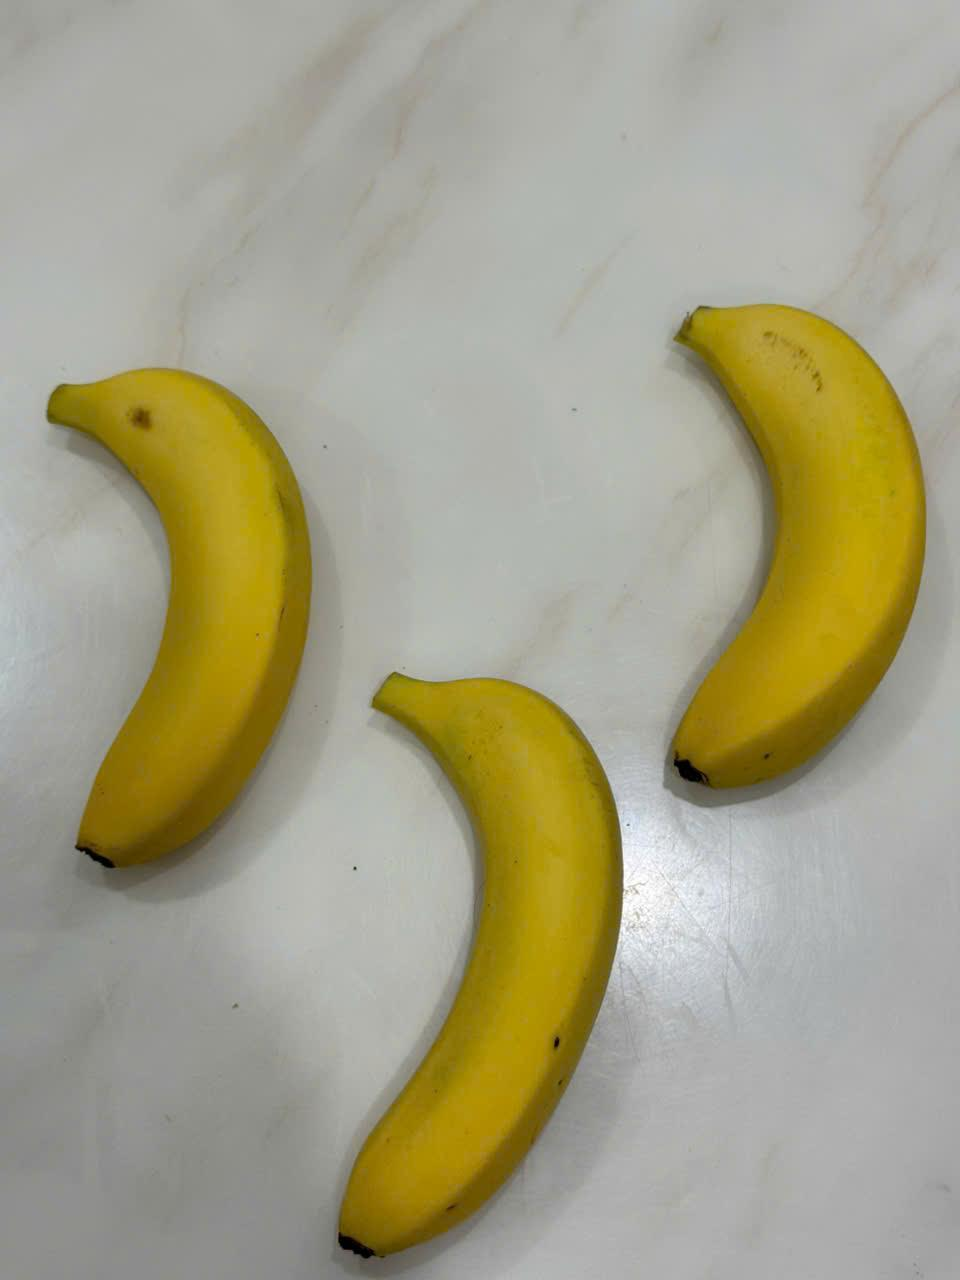banana: (306, 638, 633, 1270), (16, 352, 334, 916), (642, 264, 942, 814)
